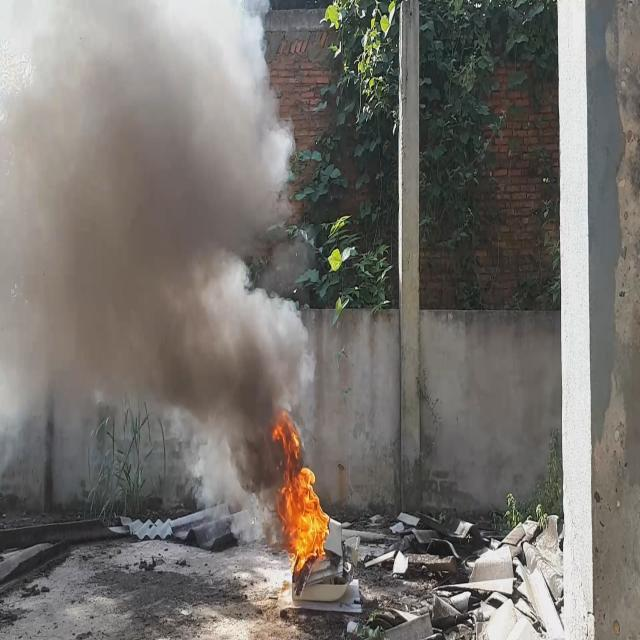Fire: (275, 412, 331, 572)
Smoke: (0, 0, 314, 538)
